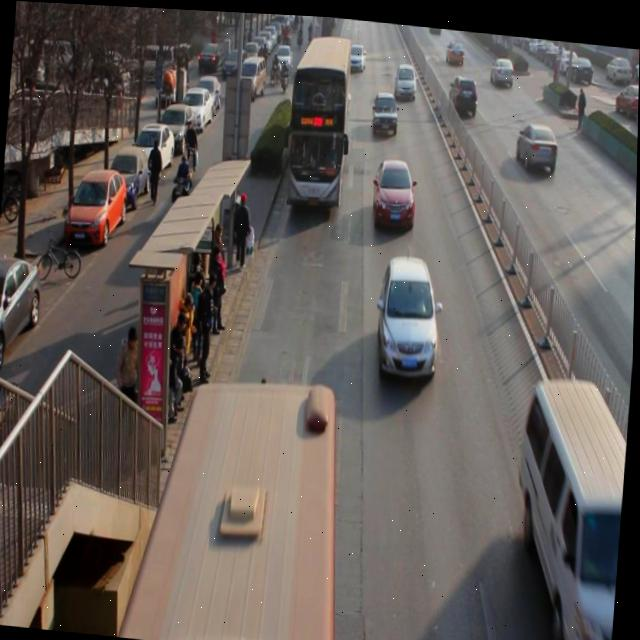car: (376, 256, 445, 376), (371, 155, 419, 226), (299, 77, 354, 123), (516, 117, 560, 170), (447, 68, 480, 114), (370, 88, 400, 131), (392, 59, 418, 98), (488, 51, 516, 83), (346, 38, 369, 70)
truck: (512, 375, 632, 640)
van: (118, 364, 352, 640), (284, 28, 354, 203)
